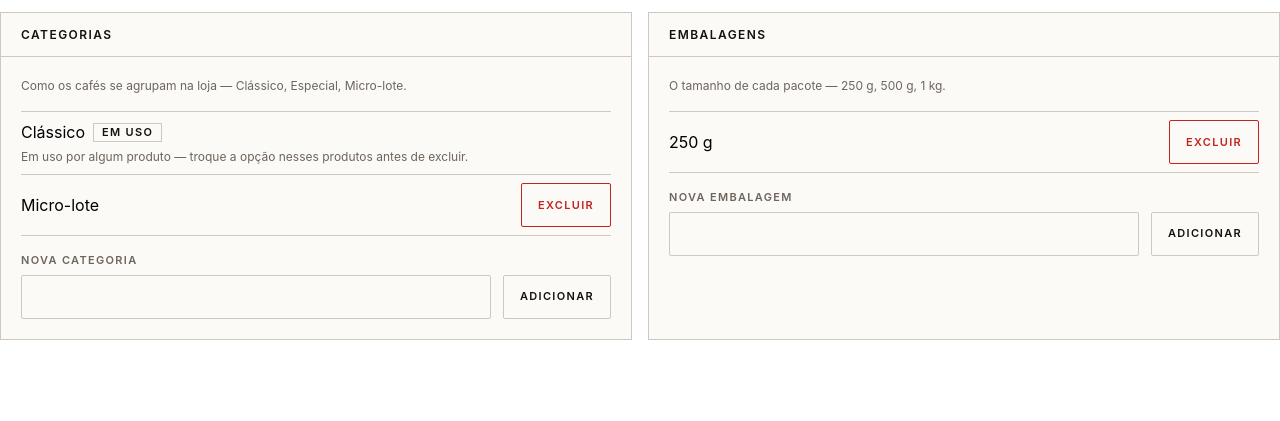
acrescentar › no sucesso, a confirmação nomeia o valor e o campo se esvazia
Type "Especial" into the field labelled "Nova categoria" at coordinates (256, 296), box [21, 274, 491, 318]
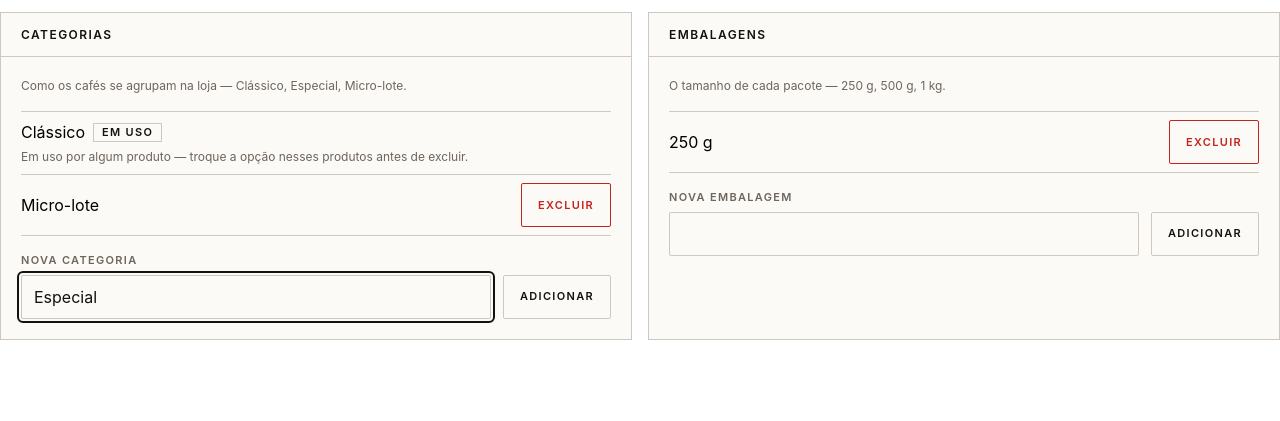
Click the 2nd button "Adicionar" at coordinates (557, 296), box [503, 274, 611, 318]
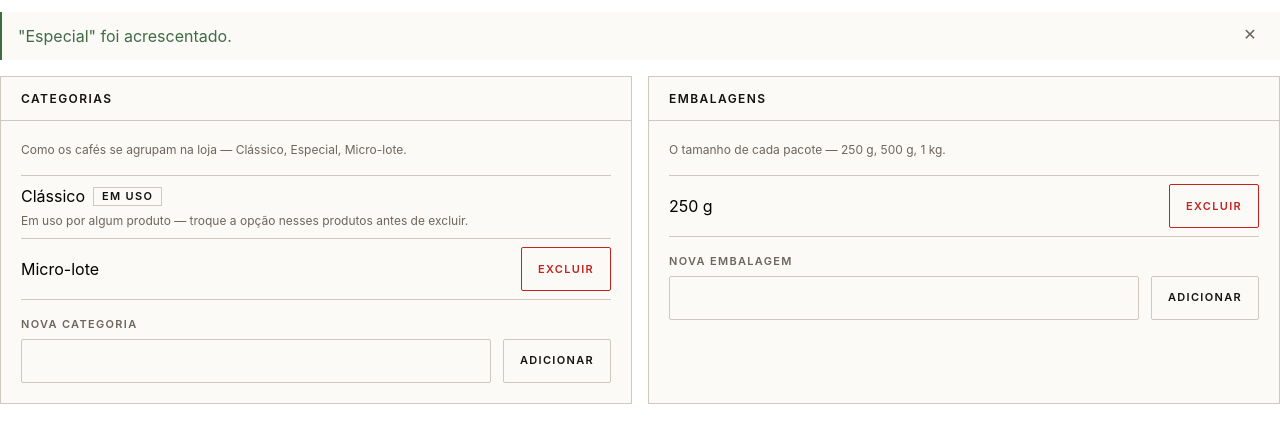
Expected: the field labelled "Nova categoria" is empty, [21, 338, 491, 382]
Result: the text "\"Especial\" foi acrescentado." is shown at [18, 26, 232, 46]
